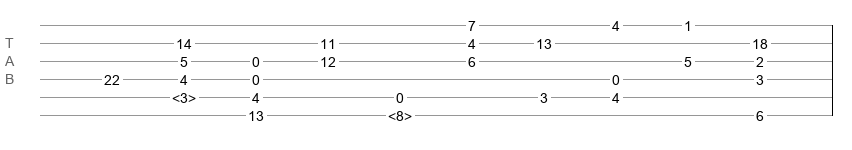0: (252, 72, 260, 82), (252, 54, 260, 64), (396, 90, 404, 100), (612, 72, 620, 82)
1: (684, 18, 692, 28)
11: (320, 36, 336, 46)
12: (320, 54, 336, 64)
13: (248, 108, 264, 118), (536, 36, 552, 46)
14: (176, 36, 192, 46)
18: (752, 36, 768, 46)
2: (756, 54, 764, 64)
22: (104, 72, 120, 82)
3: (540, 90, 548, 100), (756, 72, 764, 82)
4: (180, 72, 188, 82), (252, 90, 260, 100), (468, 36, 476, 46), (612, 18, 620, 28), (612, 90, 620, 100)
5: (180, 54, 188, 64), (684, 54, 692, 64)
6: (468, 54, 476, 64), (756, 108, 764, 118)
7: (468, 18, 476, 28)
harmonic: (172, 90, 196, 100), (388, 108, 412, 118)
